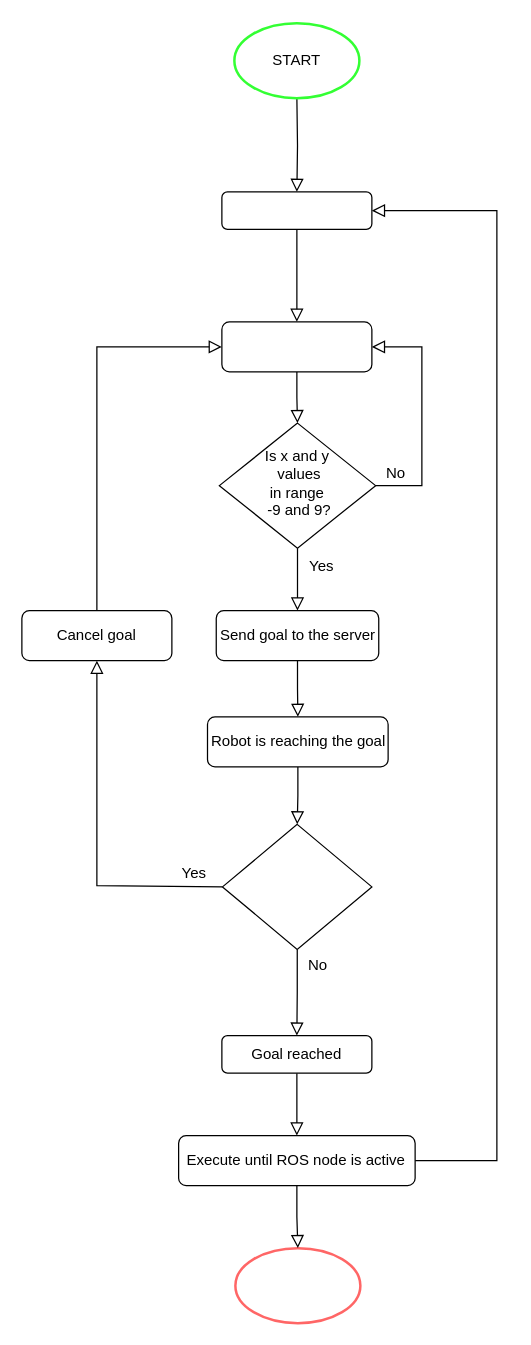
Image size: 531x1345. Some labels were removed from this diagram. Each missing label, with the centre of its shape:
"Do" goes at (x=296, y=210).
"Do you want to cancel the goal?" goes at (x=296, y=886).
"FINISH" goes at (x=297, y=1285).
"Set goal coordinates" goes at (x=296, y=346).
